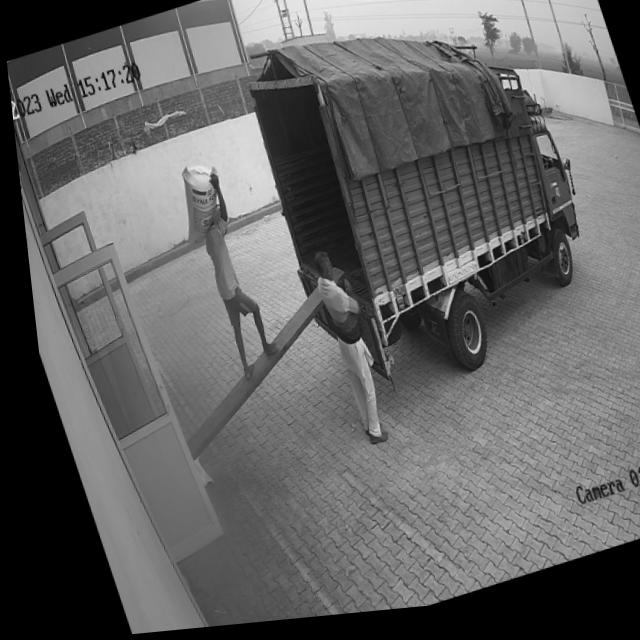sack: (158, 160, 231, 250)
